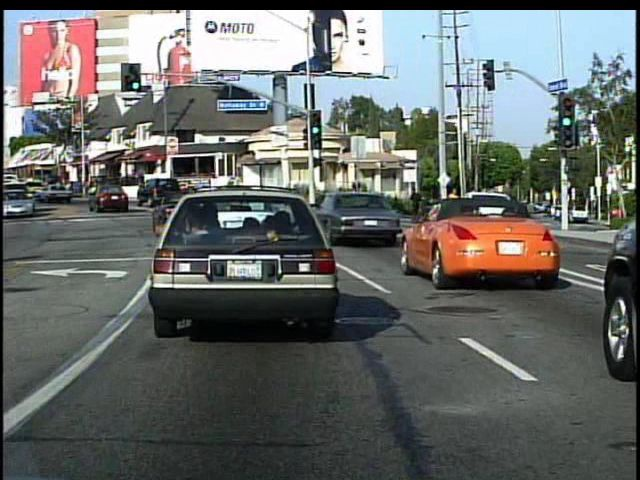person: (444, 187, 464, 227), (408, 186, 426, 226)
